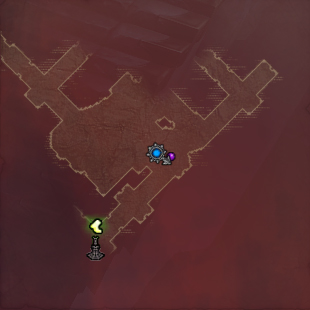SpeedPylon: (86, 216, 106, 262)
